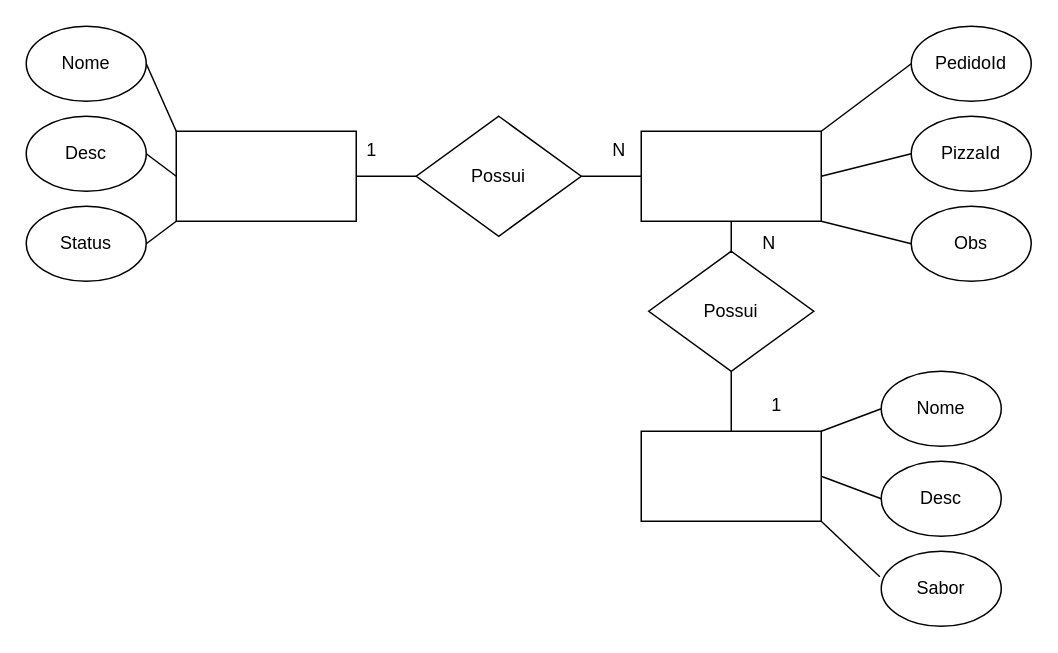
Some shapes in this 1058 by 653 pixel diagram are drawn without their labels. The shapes that lost their labels are listed below. From the top down, each one's centre as x and y in pixels, then its label:
At point (265, 175): "Pedido".
At point (730, 175): "NotaPizza".
At point (730, 475): "Pizza".
